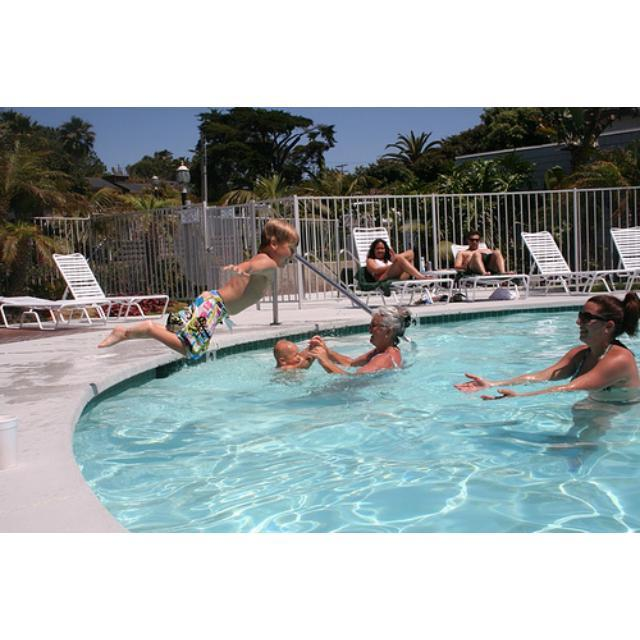human: (455, 290, 638, 407), (168, 222, 298, 346), (317, 303, 407, 373), (274, 323, 320, 374)
